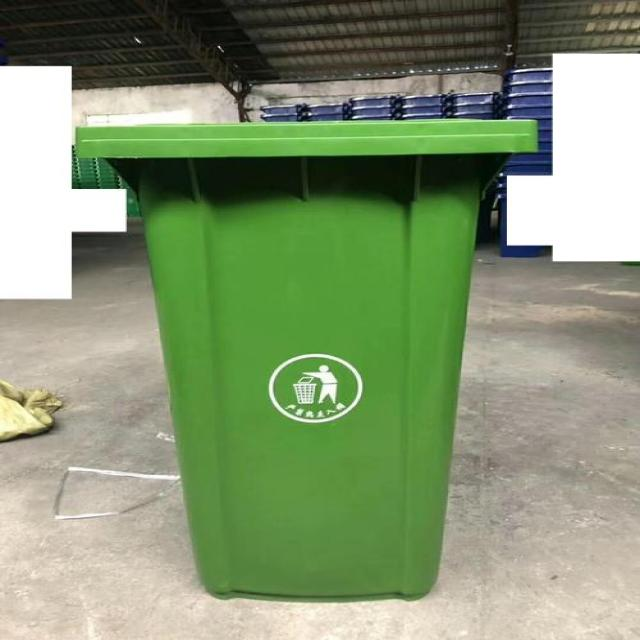garbage_bin: (72, 119, 536, 604)
